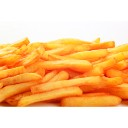frenchfries: (1, 40, 128, 107)
